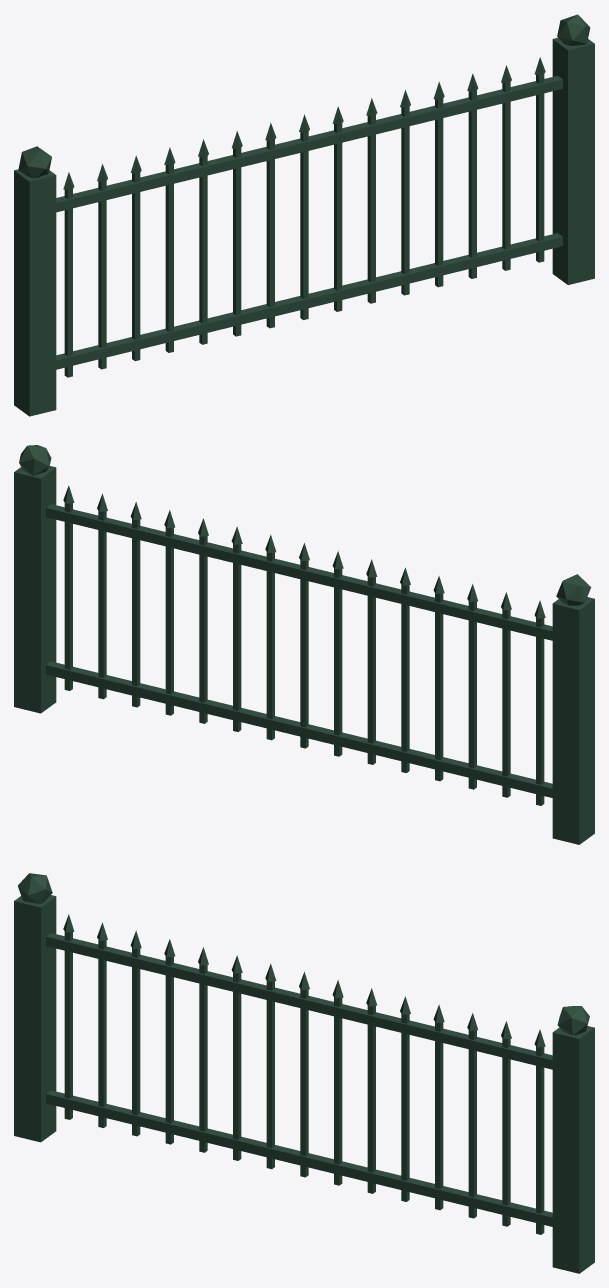
The model's file is getkong-hhzaun.glb.
3 views of the same model, one above another, from view 1: azimuth 30°, elevation 25°; view 2: azimuth 150°, elevation 25°; view 3: azimuth 330°, elevation 25° (orthographic).
Parts seen in each view (by area): view 1: zaun; view 2: zaun; view 3: zaun.
Part boxes in pixels (<box>): zaun: <box>14,14,594,416</box>; zaun: <box>14,445,594,844</box>; zaun: <box>14,873,594,1273</box>.
Size of the model in its own units: 2.53 by 1.1 by 0.139.
